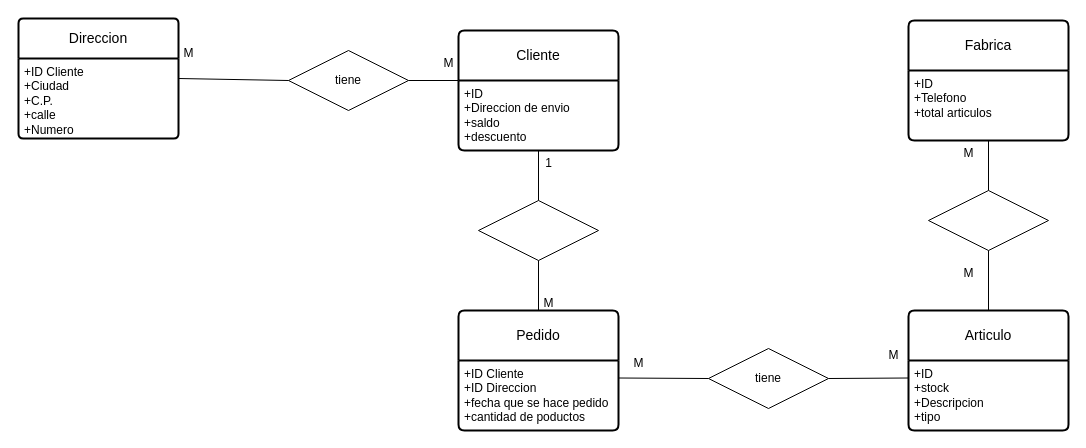
Image size: 1086x448. Some labels were removed from this diagram. Here are the shapes that lost their labels. From the top down, the centre of each, then its label:
At (538,230): "hace".
At (988,220): "Almacena".
